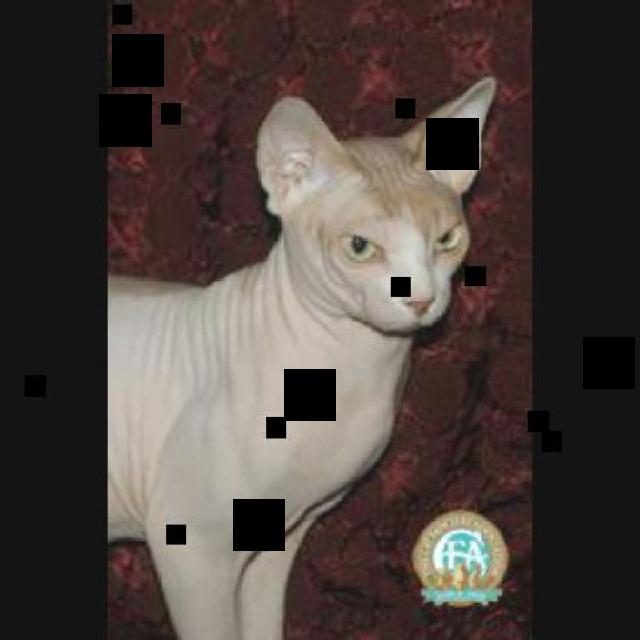unauthorized: (106, 74, 497, 638)
